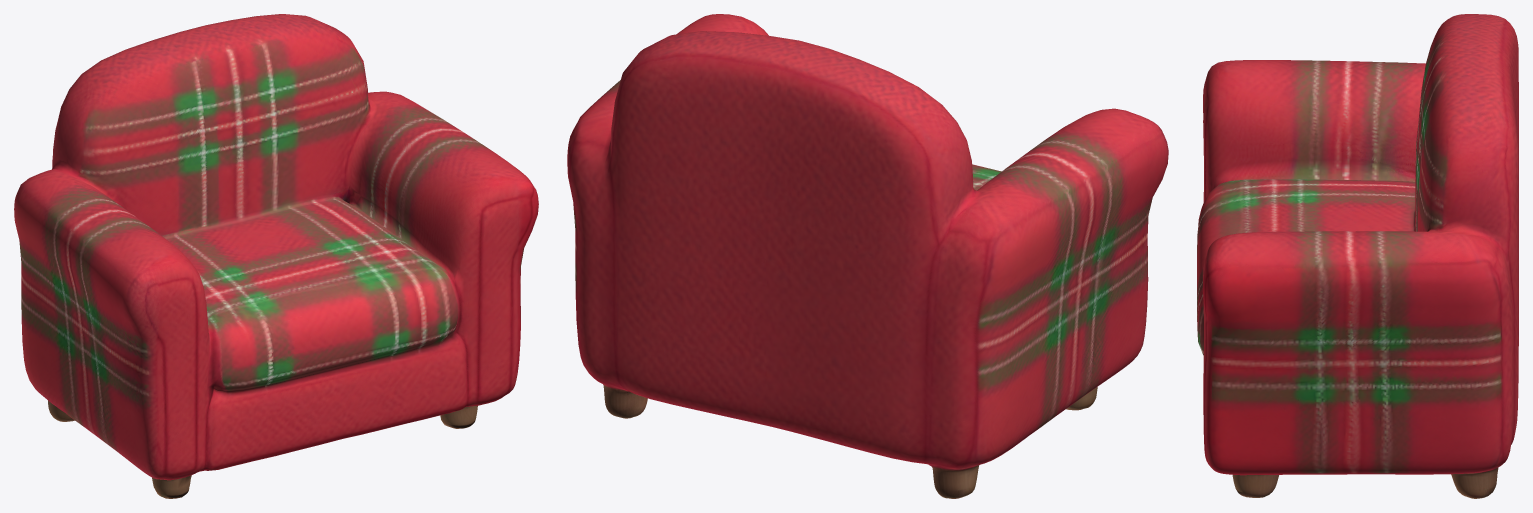
File: Red_plaid_armchair.glb
3 views of the same model, side by side, from view 1: azimuth 30°, elevation 25°; view 2: azimuth 150°, elevation 25°; view 3: azimuth 270°, elevation 25° (orthographic). The views are drawn at different scales.
Size of the model in its own units: 1.91 by 1.55 by 1.22.
Materials: 1 (1 with a texture image).
